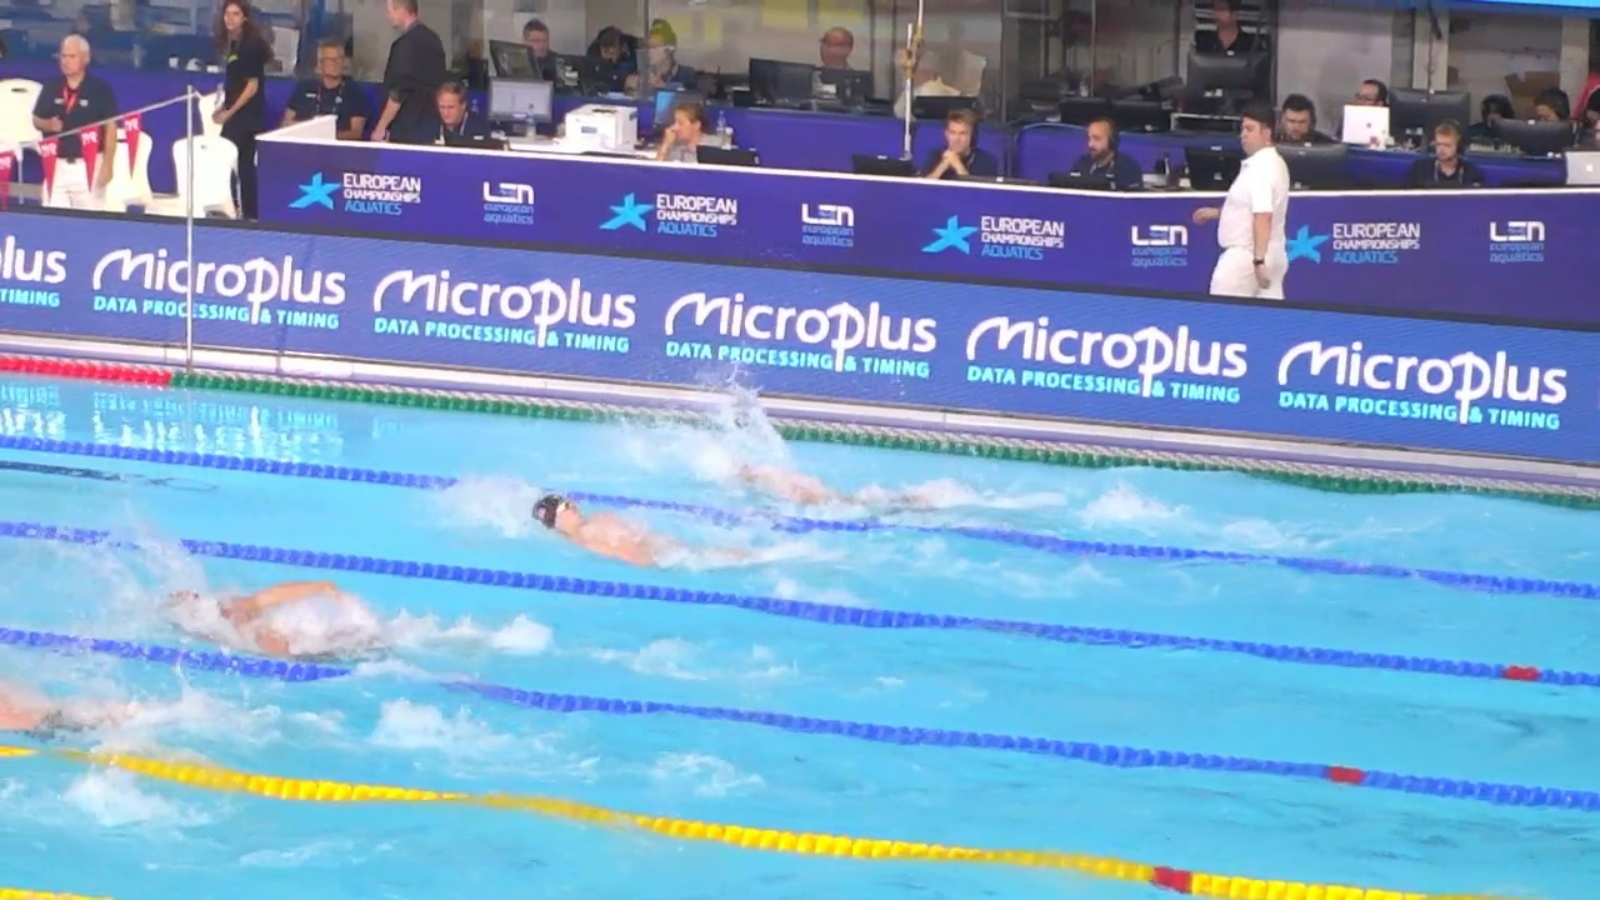swimmerw: (153, 581, 465, 684), (526, 493, 762, 577), (705, 447, 981, 515), (1, 674, 178, 748)
